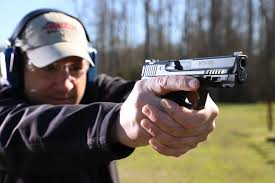gun: (133, 51, 249, 155)
